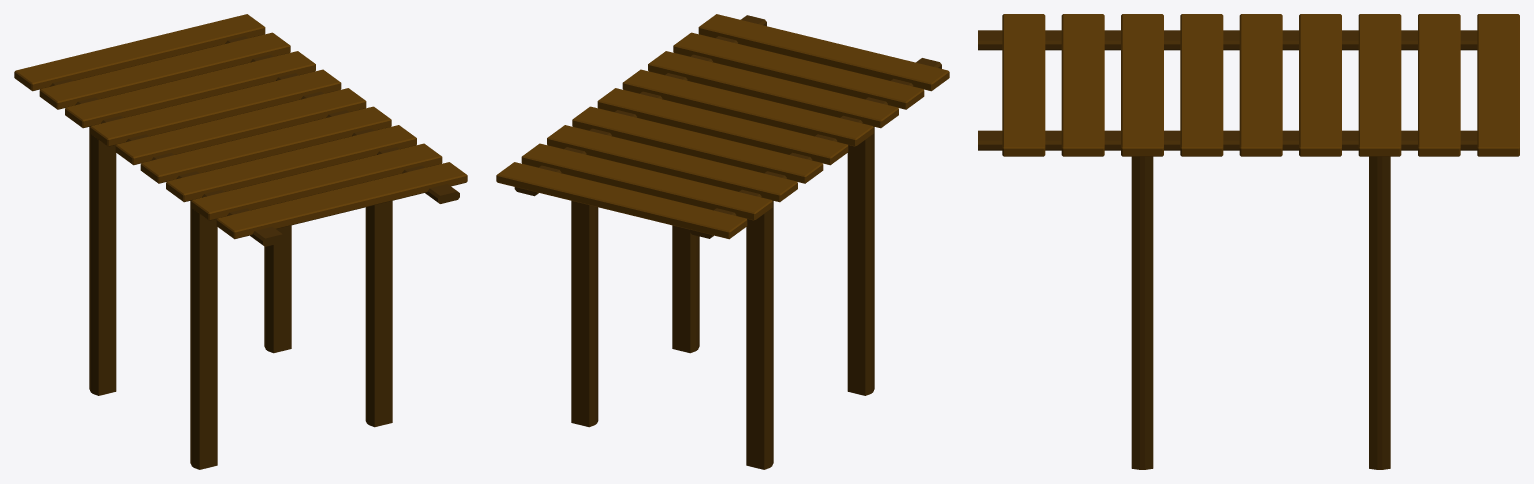
Rendered from Pier.fbx.
3 views of the same model, side by side, from view 1: azimuth 30°, elevation 25°; view 2: azimuth 150°, elevation 25°; view 3: azimuth 270°, elevation 25° (orthographic). The views are drawn at different scales.
Visible parts, largest first — view 1: Cube.011, Cube.013, Cube.012, Cube, Cube.003, Cube.007, Cube.008, Cube.004, Cube.001, Cube.005, Cube.002, Cube.006 (+3 smaller); view 2: Cube.013, Cube.011, Cube.014, Cube.008, Cube.001, Cube.005, Cube, Cube.004, Cube.007, Cube.003, Cube.006, Cube.002 (+3 smaller); view 3: Cube.012, Cube.014, Cube, Cube.001, Cube.003, Cube.004, Cube.006, Cube.007, Cube.002, Cube.005, Cube.008, Cube.009 (+1 smaller).
Boxes of the visible parts, x1,y1,x2,y2 form: Cube.011: [190, 200, 217, 469]; Cube.013: [89, 126, 116, 395]; Cube.012: [365, 201, 392, 427]; Cube: [216, 162, 467, 239]; Cube.003: [140, 106, 391, 183]; Cube.007: [39, 32, 290, 109]; Cube.008: [14, 14, 265, 91]; Cube.004: [115, 88, 366, 165]; Cube.001: [191, 143, 442, 220]; Cube.005: [90, 69, 341, 146]; Cube.002: [166, 125, 416, 202]; Cube.006: [65, 51, 315, 128]; Cube.013: [746, 200, 773, 469]; Cube.011: [847, 126, 874, 395]; Cube.014: [571, 201, 598, 427]; Cube.008: [496, 162, 747, 239]; Cube.001: [673, 32, 924, 109]; Cube.005: [572, 106, 823, 183]; Cube: [698, 14, 949, 91]; Cube.004: [597, 88, 848, 165]; Cube.007: [521, 143, 772, 220]; Cube.003: [622, 69, 873, 146]; Cube.006: [547, 125, 797, 202]; Cube.002: [648, 51, 898, 128]; Cube.012: [1131, 156, 1153, 469]; Cube.014: [1369, 156, 1390, 469]; Cube: [1002, 14, 1045, 156]; Cube.001: [1061, 14, 1104, 156]; Cube.003: [1180, 14, 1223, 156]; Cube.004: [1239, 14, 1282, 156]; Cube.006: [1358, 14, 1401, 156]; Cube.007: [1418, 14, 1460, 156]; Cube.002: [1121, 14, 1163, 156]; Cube.005: [1299, 14, 1341, 156]; Cube.008: [1477, 14, 1519, 156]; Cube.009: [978, 30, 1477, 50].
Size of the model in its own units: 1604 by 1858 by 2739.
